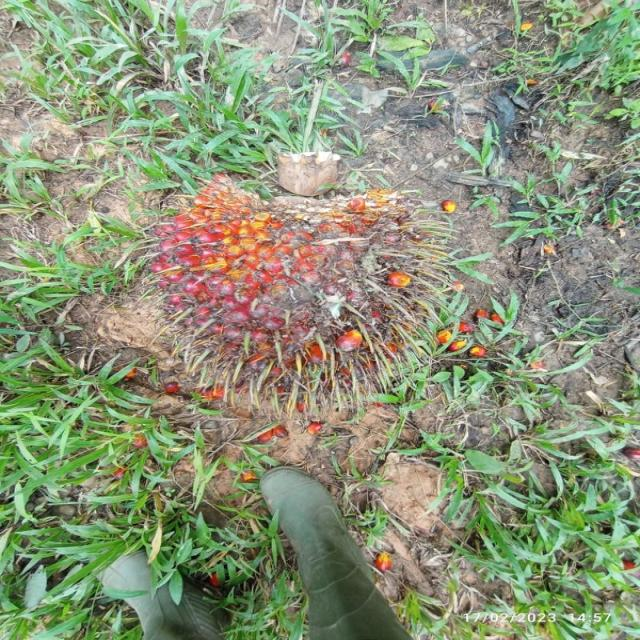fraksi 3: (124, 165, 488, 426)
